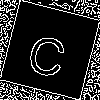C: (24, 25, 71, 80)
